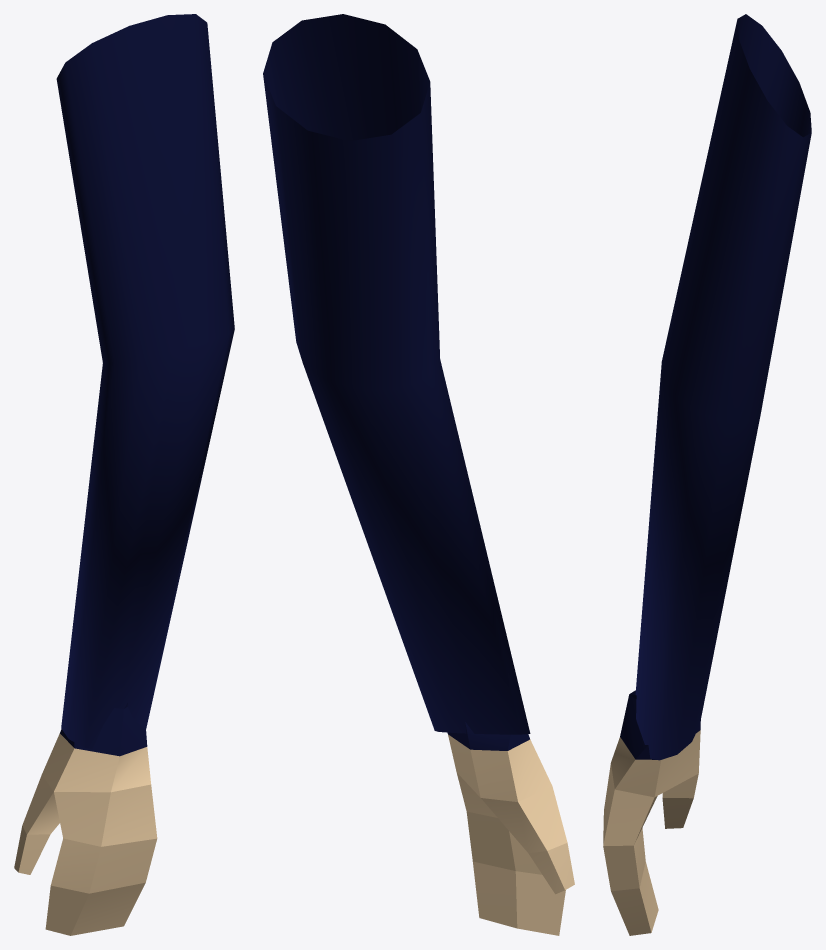
File: JapanHumanRightArm.fbx
The picture shows the model from 3 angles, left to right: view 1: azimuth 30°, elevation 25°; view 2: azimuth 150°, elevation 25°; view 3: azimuth 270°, elevation 25°; orthographic projection. The views are drawn at different scales.
Parts seen in each view (by area): view 1: Circle.016; view 2: Circle.016; view 3: Circle.016.
Part boxes in pixels (x1,y1,x2,y2): Circle.016: (14,14,234,935); Circle.016: (263,14,574,935); Circle.016: (603,14,811,935).
Size of the model in its own units: 18.94 by 65.68 by 13.11.
